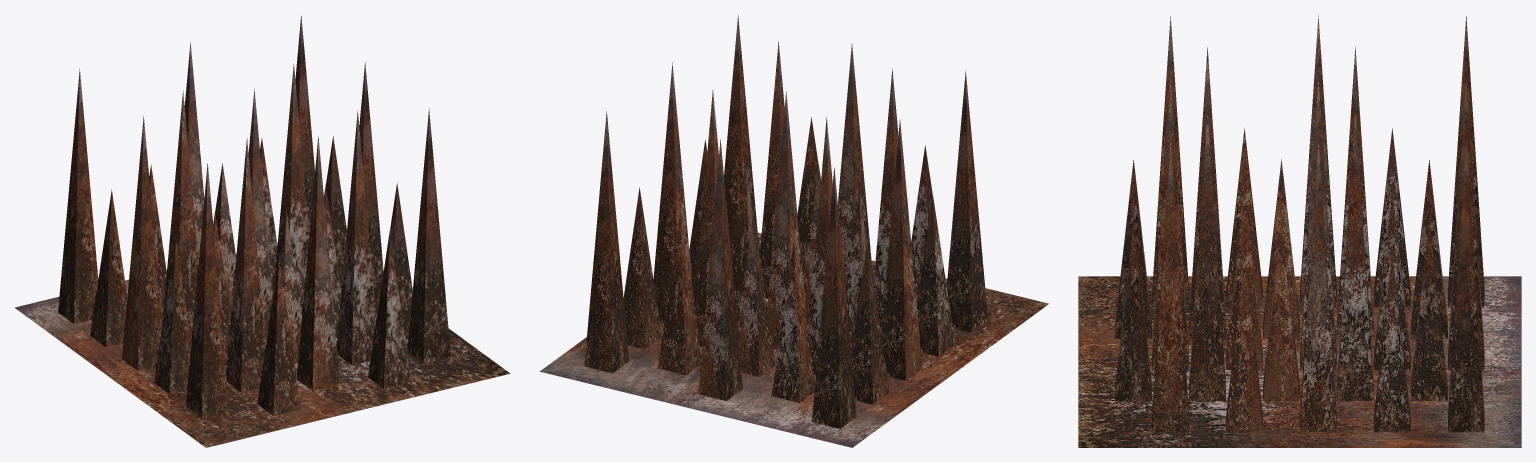
The model's file is spikes.FBX.
The picture shows the model from 3 angles, left to right: view 1: azimuth 30°, elevation 25°; view 2: azimuth 150°, elevation 25°; view 3: azimuth 270°, elevation 25°; orthographic projection. The views are drawn at different scales.
Visible parts, largest first — view 1: Plane002; view 2: Plane002; view 3: Plane002.
Boxes of the visible parts, bbox=[...] form: Plane002: bbox=[15, 16, 509, 447]; Plane002: bbox=[540, 14, 1048, 447]; Plane002: bbox=[1078, 14, 1521, 447].
Bounding box in the file's own units: 27.5 × 21.32 × 30.
1 material, 1 textured.
